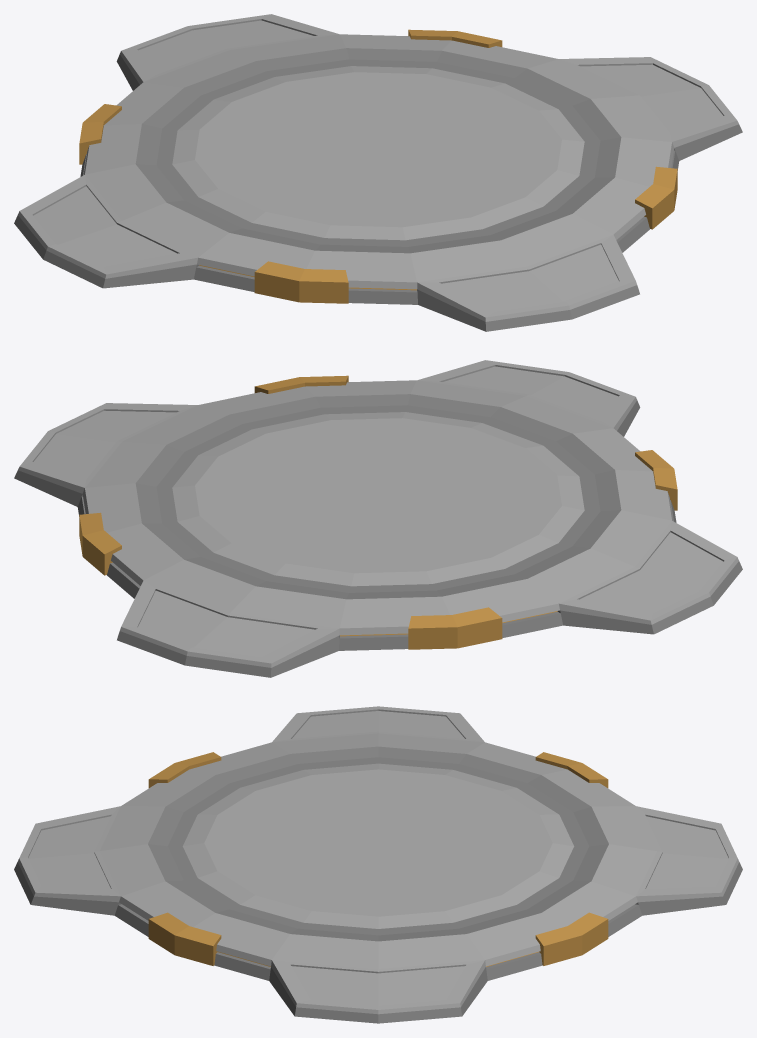
3 views of the same model, one above another, from view 1: azimuth 30°, elevation 25°; view 2: azimuth 150°, elevation 25°; view 3: azimuth 270°, elevation 25° (orthographic). The views are drawn at different scales.
Visible parts, largest first — view 1: Props_Base; view 2: Props_Base; view 3: Props_Base.
Boxes of the visible parts, <box> form: Props_Base: <box>14,14,742,331</box>; Props_Base: <box>14,360,742,677</box>; Props_Base: <box>14,706,742,1023</box>.
Bounding box in the file's own units: 2.4 × 0.0961 × 2.4.
